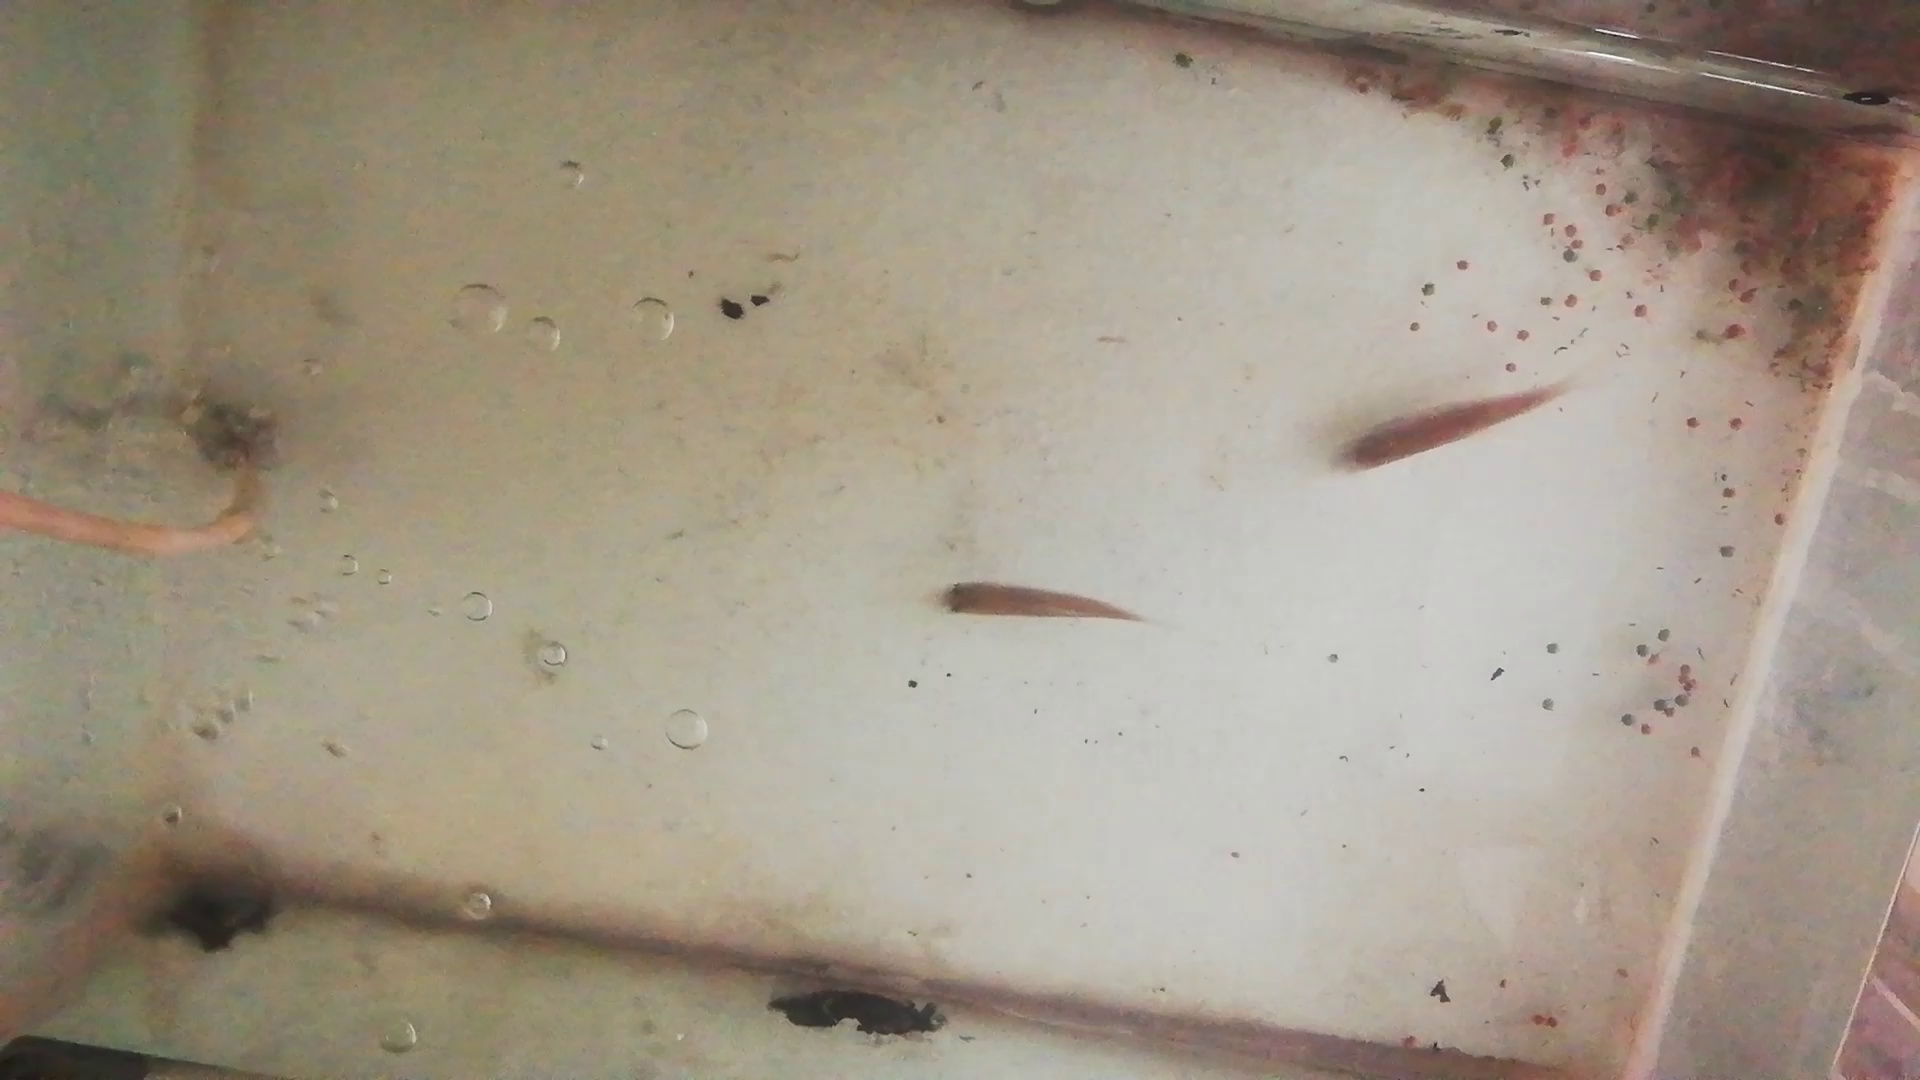fish: (1327, 393, 1568, 471), (930, 576, 1143, 626)
